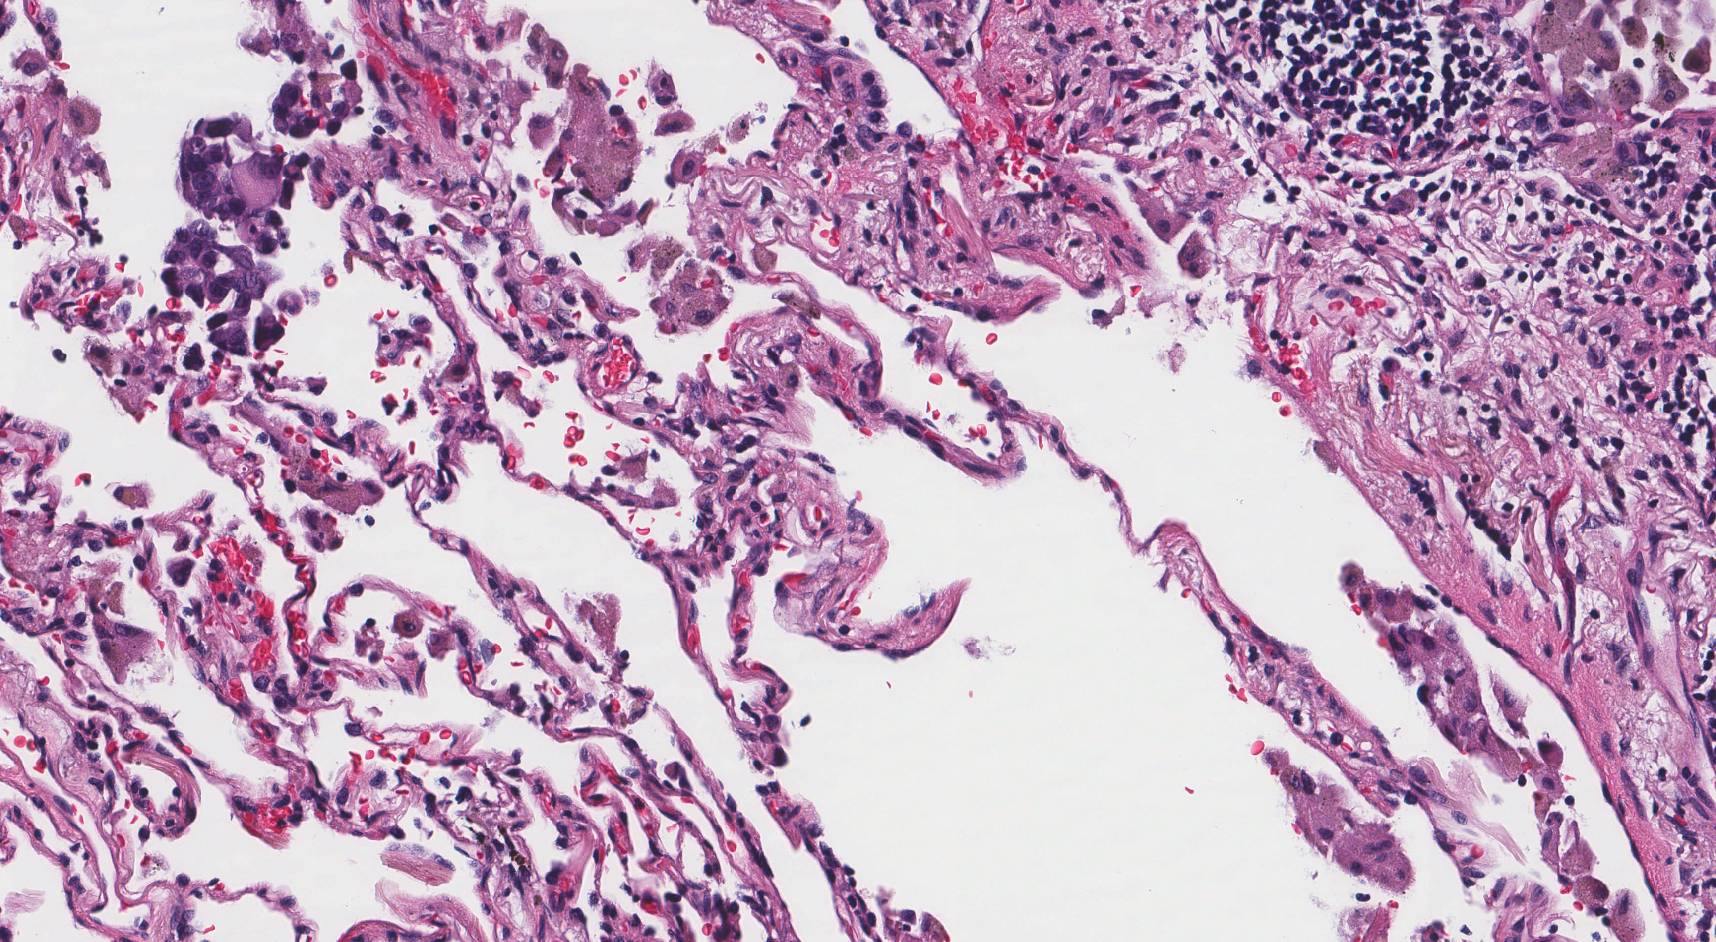stas: (166, 113, 313, 255), (160, 220, 307, 358)
